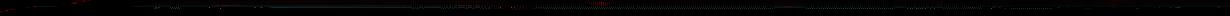Blue cone: (10, 9, 18, 10), (26, 7, 31, 8), (33, 6, 37, 7)
Yellow cone: (587, 2, 617, 6), (990, 6, 997, 8), (1216, 6, 1221, 8)
